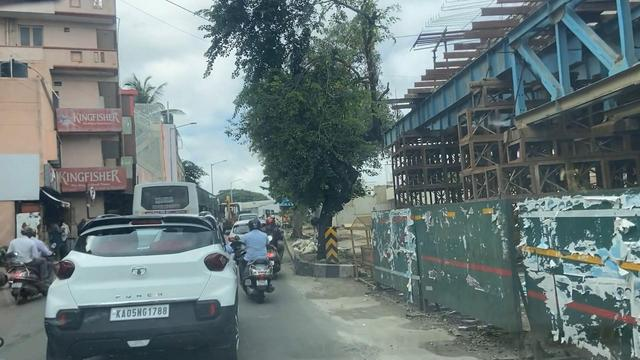LMV: (63, 218, 224, 357), (241, 222, 273, 291)
RoadDamages: (333, 335, 432, 360)
